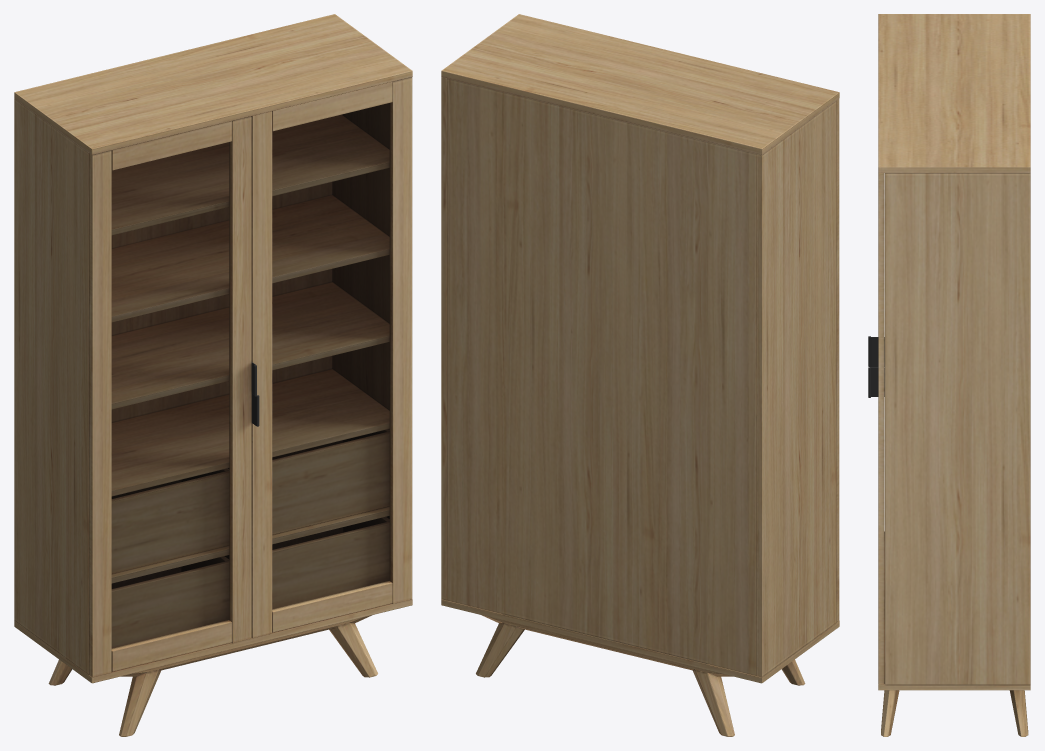
Rendered from cabinet-3.glb.
The picture shows the model from 3 angles, left to right: view 1: azimuth 30°, elevation 25°; view 2: azimuth 150°, elevation 25°; view 3: azimuth 270°, elevation 25°; orthographic projection. The views are drawn at different scales.
Visible parts, largest first — view 1: Averio_Display_Cabinet_Oak_OAK_0, Averio_Display_Cabinet_Oak_GLASS_0; view 2: Averio_Display_Cabinet_Oak_OAK_0; view 3: Averio_Display_Cabinet_Oak_OAK_0, Averio_Display_Cabinet_Oak_GREY_0.
Boxes of the visible parts, x1=… form: Averio_Display_Cabinet_Oak_OAK_0: x1=14, y1=14, x2=412, y2=736; Averio_Display_Cabinet_Oak_GLASS_0: x1=112, y1=103, x2=390, y2=648; Averio_Display_Cabinet_Oak_OAK_0: x1=441, y1=14, x2=839, y2=736; Averio_Display_Cabinet_Oak_OAK_0: x1=878, y1=14, x2=1030, y2=736; Averio_Display_Cabinet_Oak_GREY_0: x1=868, y1=336, x2=884, y2=397.
Size of the model in its own units: 100 by 178 by 44.81.
3 materials, 1 textured.
